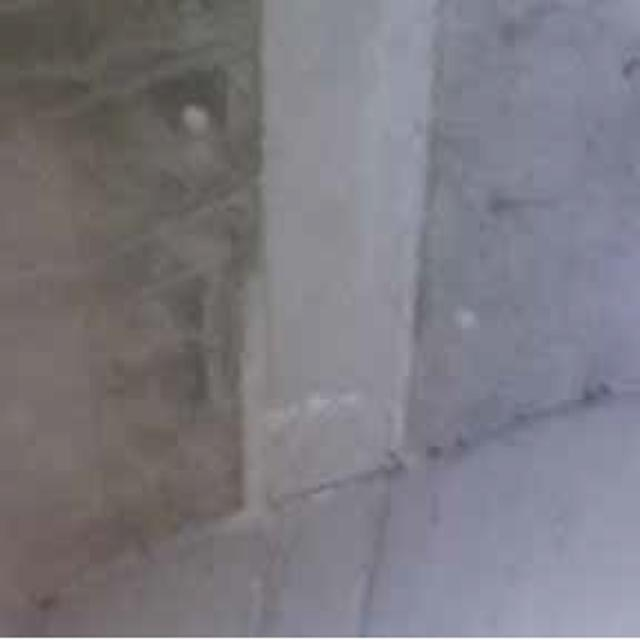crack: (56, 36, 271, 117)
